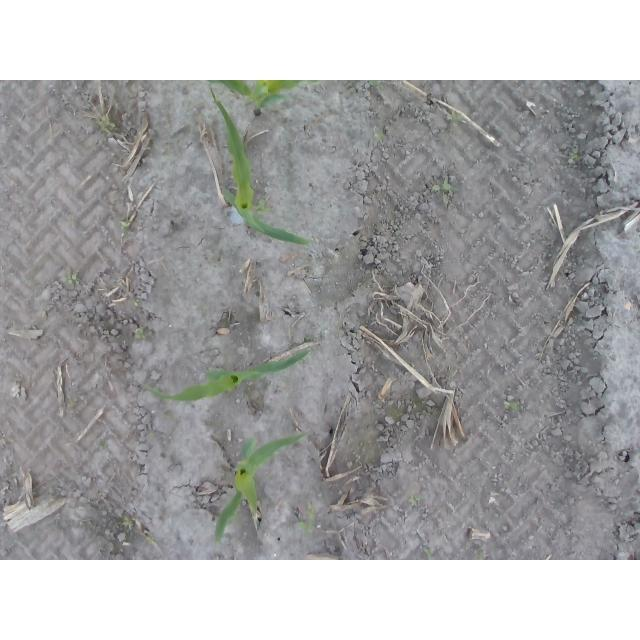Maize: (208, 83, 311, 246), (215, 431, 309, 542), (142, 349, 310, 404), (206, 80, 320, 118)
Weeds: (294, 504, 316, 531), (432, 180, 457, 194), (256, 199, 273, 214), (503, 400, 522, 412), (449, 110, 466, 123), (61, 275, 80, 286), (122, 517, 134, 532), (367, 80, 385, 88), (135, 328, 146, 341), (567, 151, 577, 165), (374, 130, 385, 142), (409, 495, 419, 506), (145, 536, 155, 545), (120, 221, 129, 231), (425, 549, 432, 559)
